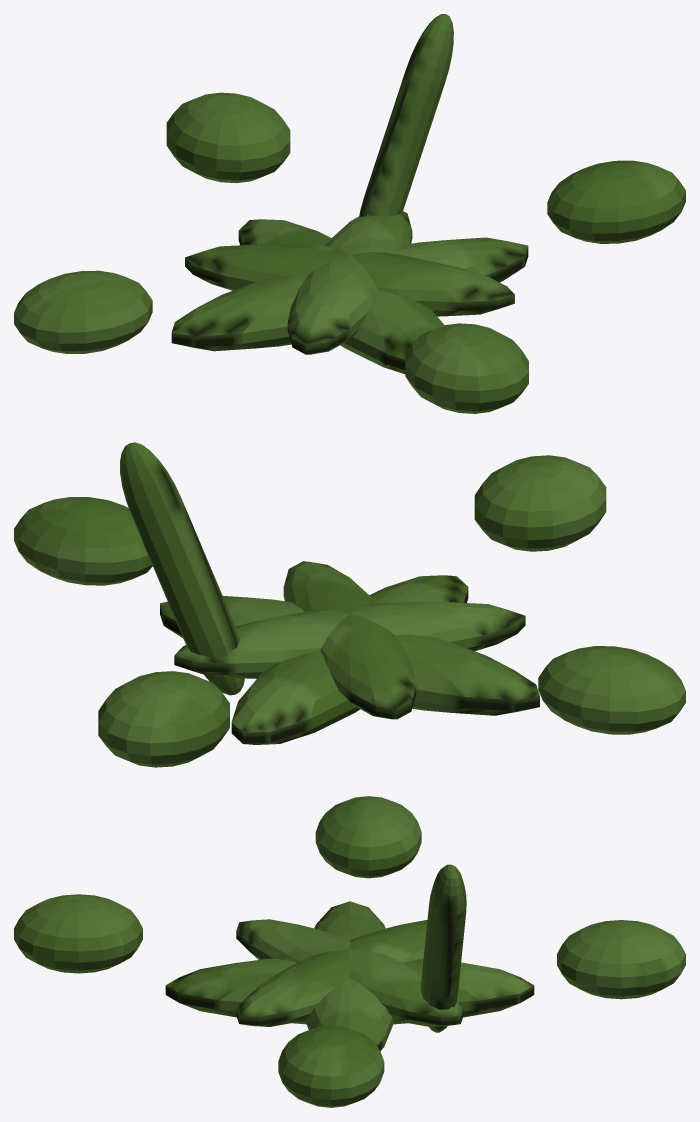
Rendered from scarpet.obj.
The picture shows the model from 3 angles, top to bottom: view 1: azimuth 30°, elevation 25°; view 2: azimuth 150°, elevation 25°; view 3: azimuth 270°, elevation 25°; orthographic projection. The views are drawn at different scales.
Bounding box in the file's own units: 1.45 × 0.5146 × 1.44.
Materials: 1 (1 with a texture image).
